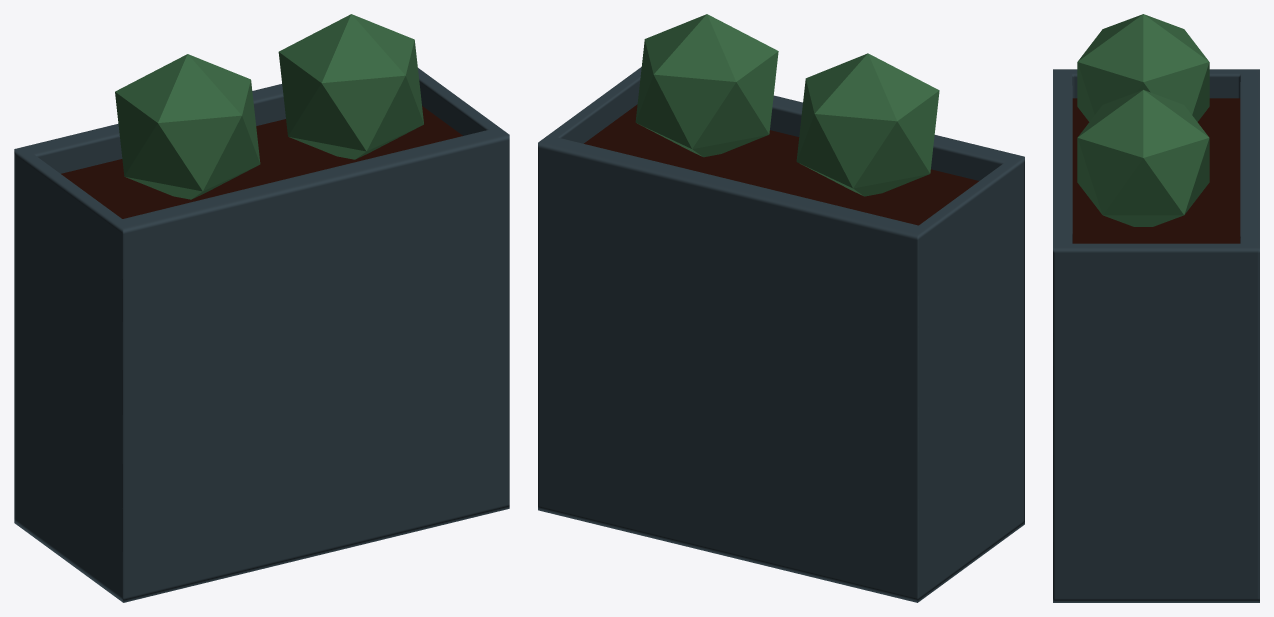
Rendered from doniczka_duza_na_korytarz_wersja_3.fbx.
3 views of the same model, side by side, from view 1: azimuth 30°, elevation 25°; view 2: azimuth 150°, elevation 25°; view 3: azimuth 270°, elevation 25° (orthographic). The views are drawn at different scales.
Parts seen in each view (by area): view 1: doniczka duza, maly krzaczek, maly krzaczek.001, ziemia; view 2: doniczka duza, maly krzaczek.001, maly krzaczek, ziemia; view 3: doniczka duza, maly krzaczek, ziemia, maly krzaczek.001.
Part boxes in pixels (left/top/right/bottom): doniczka duza: left=14, top=68, right=509, bottom=602; maly krzaczek: left=278, top=14, right=423, bottom=159; maly krzaczek.001: left=115, top=54, right=260, bottom=199; ziemia: left=61, top=106, right=462, bottom=218; doniczka duza: left=538, top=67, right=1024, bottom=602; maly krzaczek.001: left=796, top=53, right=939, bottom=196; maly krzaczek: left=635, top=14, right=778, bottom=157; ziemia: left=584, top=104, right=978, bottom=225; doniczka duza: left=1053, top=69, right=1259, bottom=602; maly krzaczek: left=1077, top=90, right=1209, bottom=226; ziemia: left=1072, top=98, right=1240, bottom=243; maly krzaczek.001: left=1077, top=14, right=1209, bottom=121.
Size of the model in its own units: 261 by 316 by 128.
